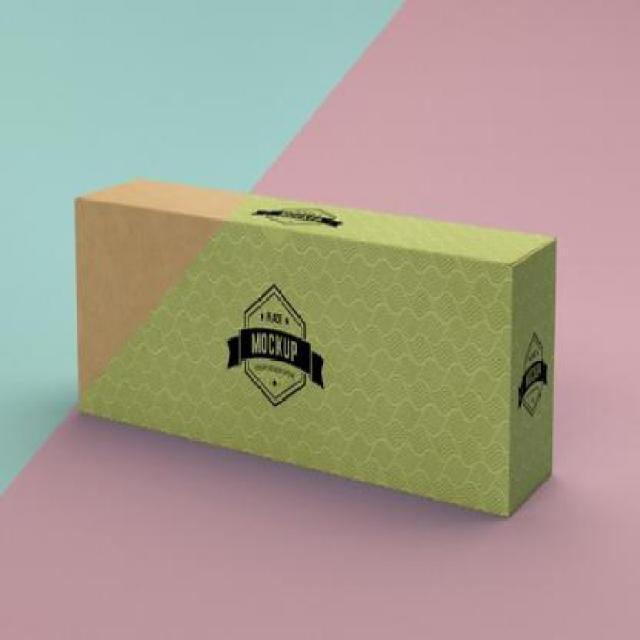box: (72, 177, 550, 518)
